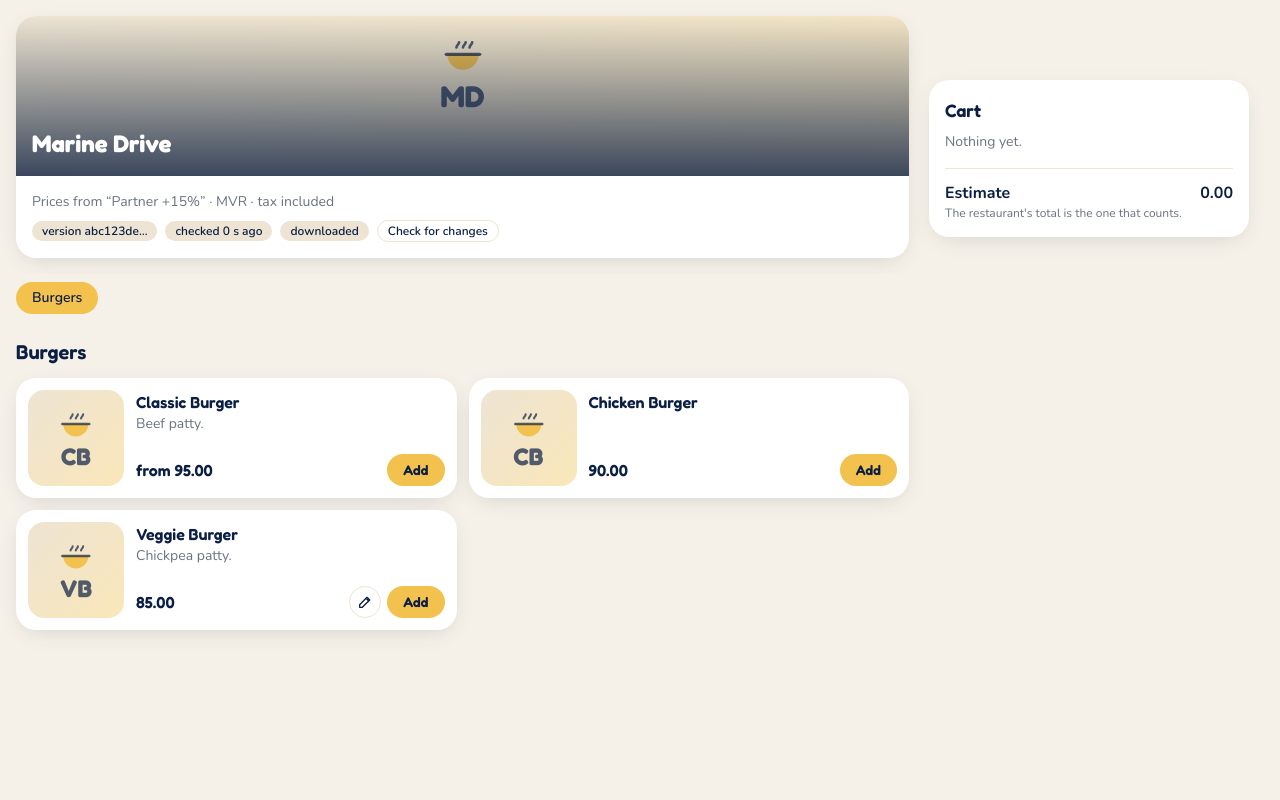
Test: MenuPage › adds through the sheet, closes it, and shows the estimate in the cart column
Expected: the text "Prices from “Partner +15%” · MVR · tax included" is shown, x1=32 y1=192 x2=334 y2=211
What coordinates should you click on to do the following:
click the button with aria-label "Add Classic Burger"
I would click on:
 (416, 470)
Its box is x1=387 y1=454 x2=444 y2=486.
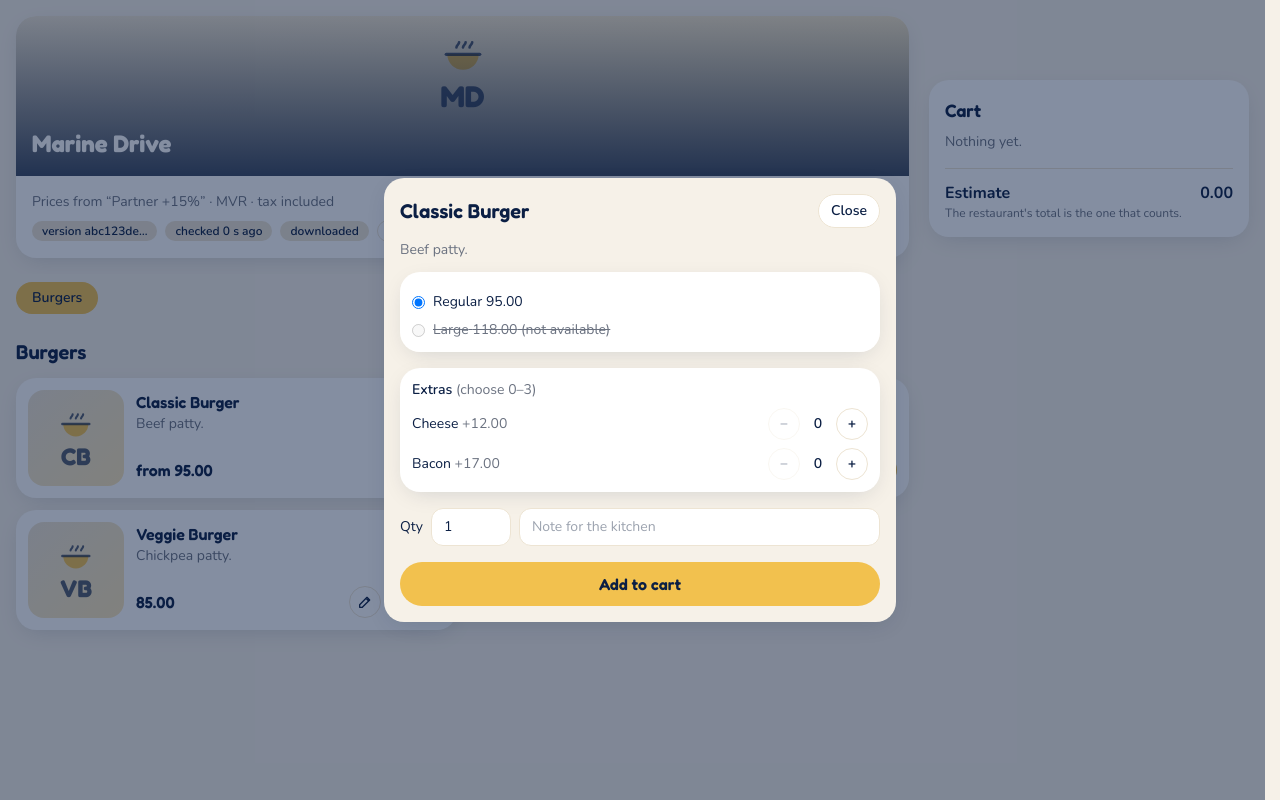
What coordinates should you click on to do the following:
click the button named "Add Cheese"
I would click on:
 (852, 424)
Its box is x1=836 y1=408 x2=868 y2=440.
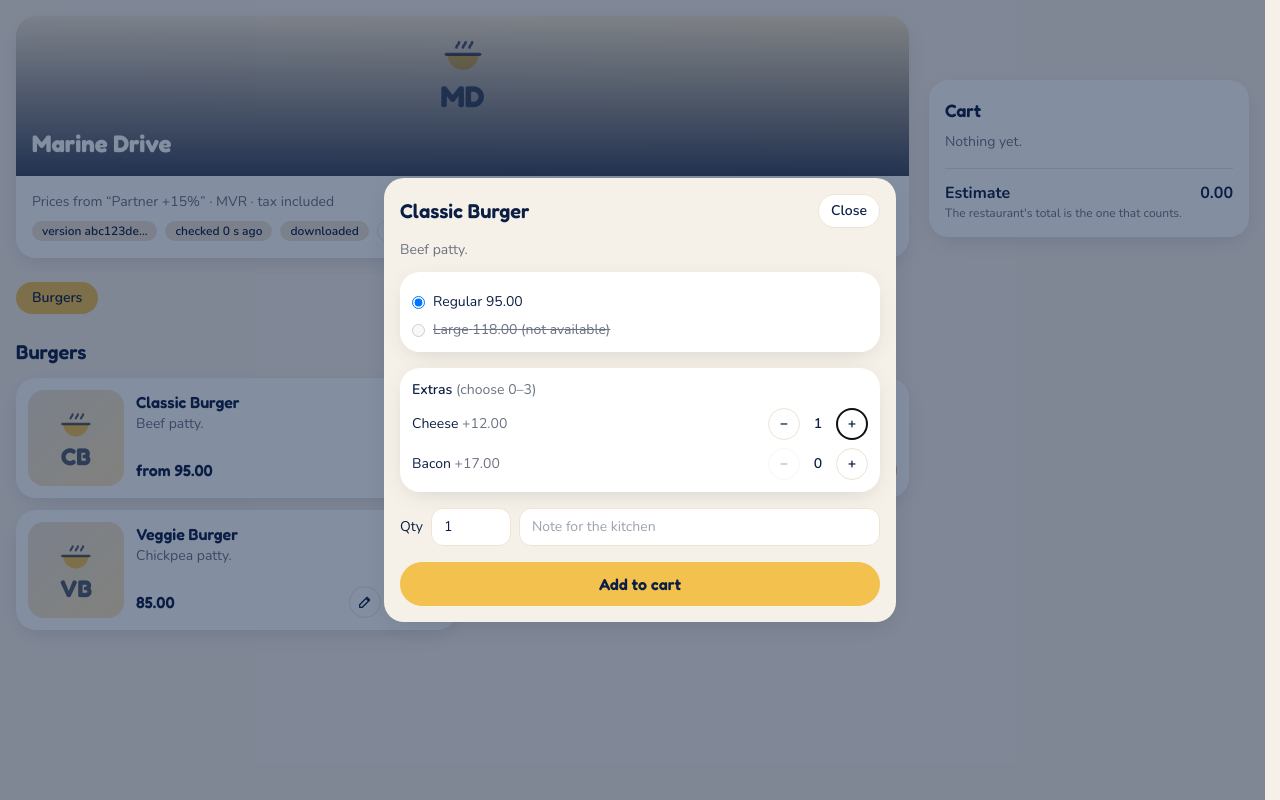
What coordinates should you click on to do the following:
click the button with aria-label "Add Classic Burger to cart"
I would click on:
 (640, 584)
Its box is x1=400 y1=562 x2=880 y2=606.
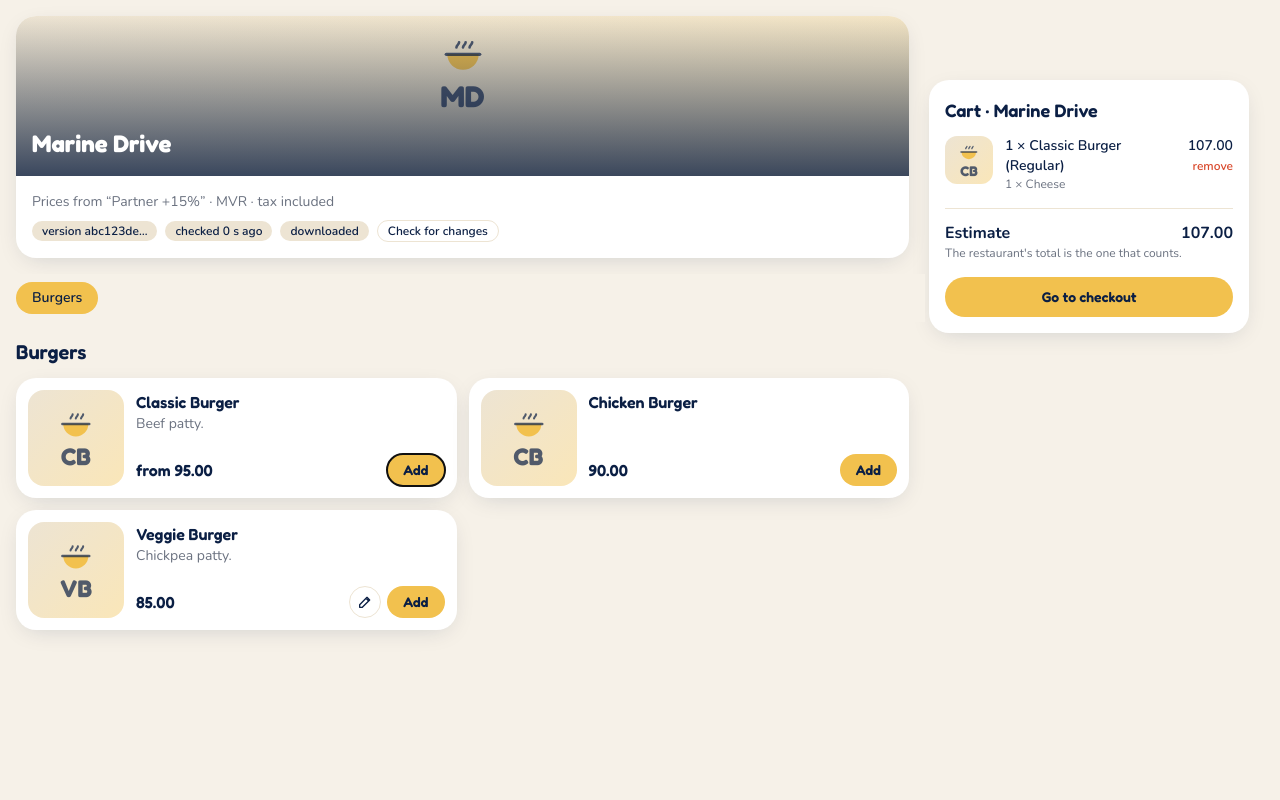
Now the dialog is gone
Now the element that starts with "Cart" shows "Classic Burger", box x1=1029 y1=136 x2=1121 y2=155
Now the element that starts with "Cart" shows "107.00", box x1=1188 y1=136 x2=1233 y2=155
